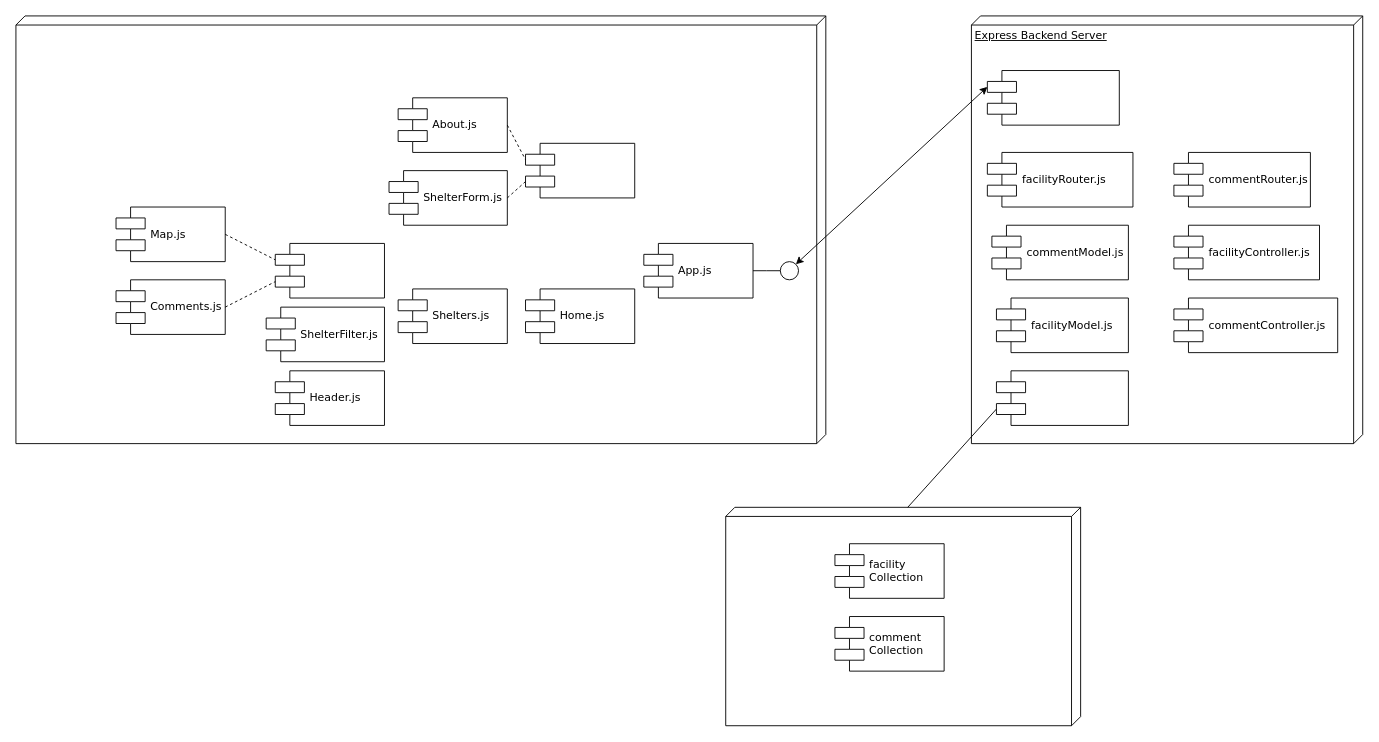
The diagram is 1379 pixels wide and 742 high, and some of its shapes have lost their labels. Here are the shapes that lost their labels. From the top down, the box of each, then its label:
(986, 70, 1119, 125): Server.js
(525, 142, 635, 198): Nav.js
(15, 15, 826, 444): React Frontend
(274, 243, 384, 298): Details.js
(996, 370, 1128, 425): db.js
(725, 506, 1081, 726): HomelessShelter Database - MongoDB Atlas
